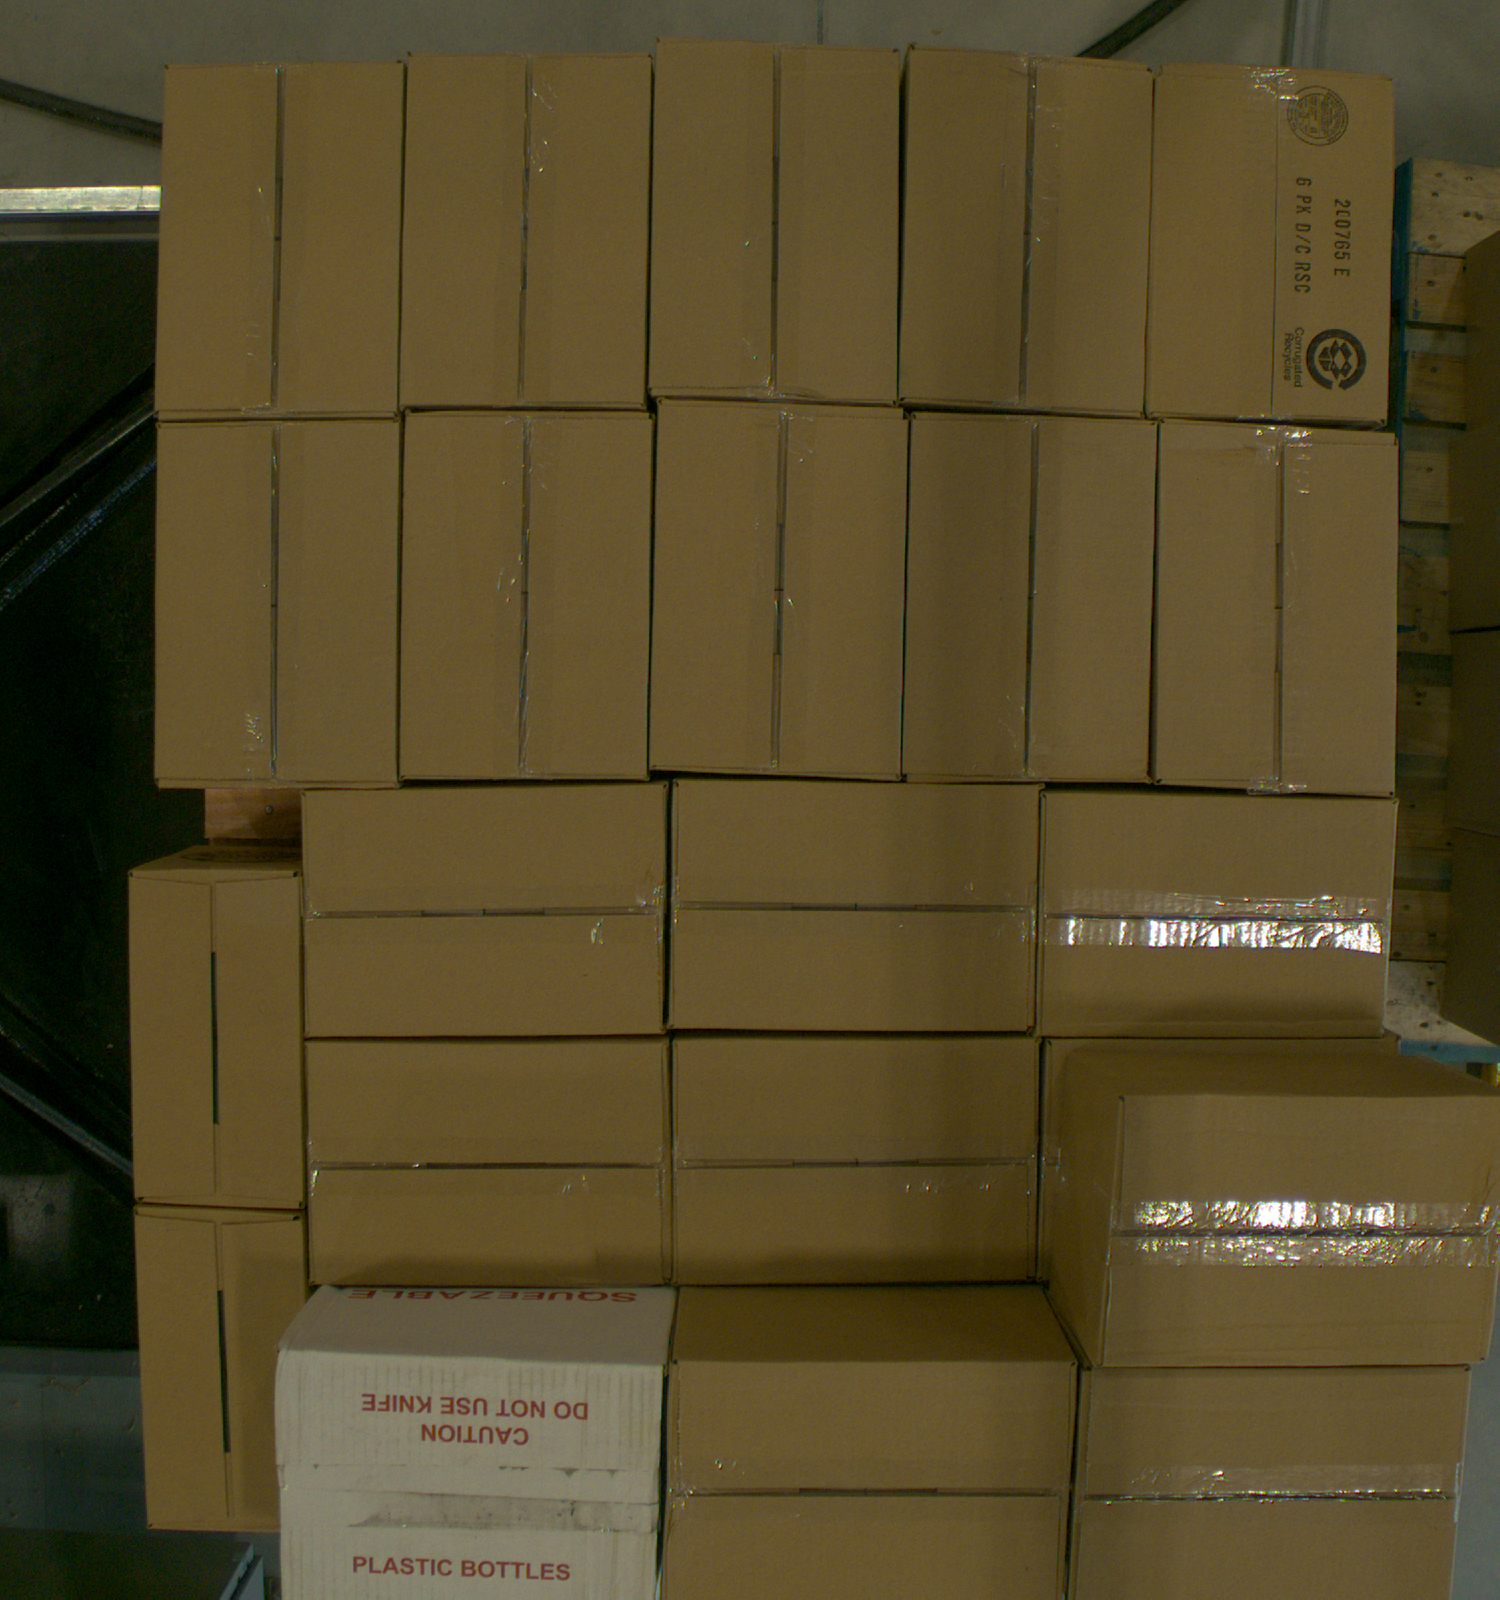box top: (1100, 1097, 1500, 1366), (651, 399, 909, 781), (663, 1363, 1078, 1600), (278, 1350, 663, 1600), (1069, 1365, 1473, 1600), (899, 47, 1153, 419), (400, 412, 654, 781), (904, 414, 1157, 781), (671, 780, 1039, 1030), (1155, 419, 1398, 796), (305, 785, 667, 1038), (650, 38, 899, 403), (154, 59, 405, 419), (400, 52, 653, 407), (1148, 63, 1394, 426), (158, 419, 400, 787), (674, 1040, 1040, 1283), (1036, 794, 1397, 1038), (307, 1043, 671, 1283), (131, 875, 305, 1210), (135, 1208, 305, 1532)
